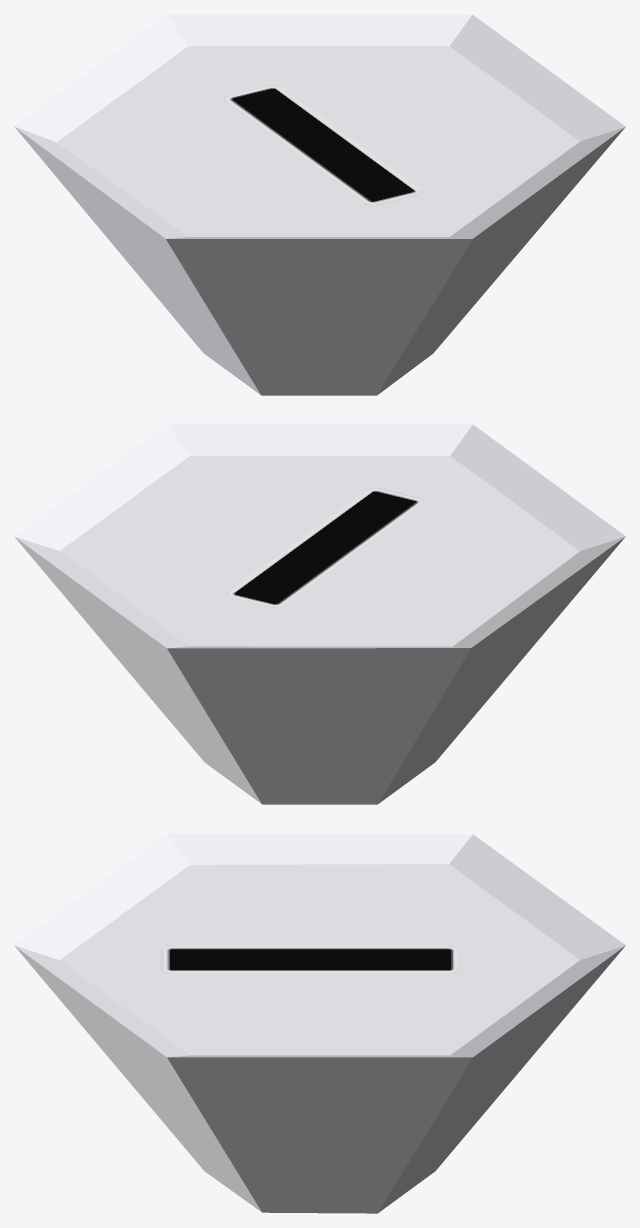
Rendered from Int.fbx.
3 views of the same model, one above another, from view 1: azimuth 30°, elevation 25°; view 2: azimuth 150°, elevation 25°; view 3: azimuth 270°, elevation 25° (orthographic).
Parts seen in each view (by area): view 1: Int Tile; view 2: Int Tile; view 3: Int Tile.
Boxes of the visible parts, bbox=[...] form: Int Tile: bbox=[14, 14, 625, 395]; Int Tile: bbox=[14, 424, 625, 804]; Int Tile: bbox=[14, 833, 625, 1213].
Size of the model in its own units: 425 by 200 by 491.
